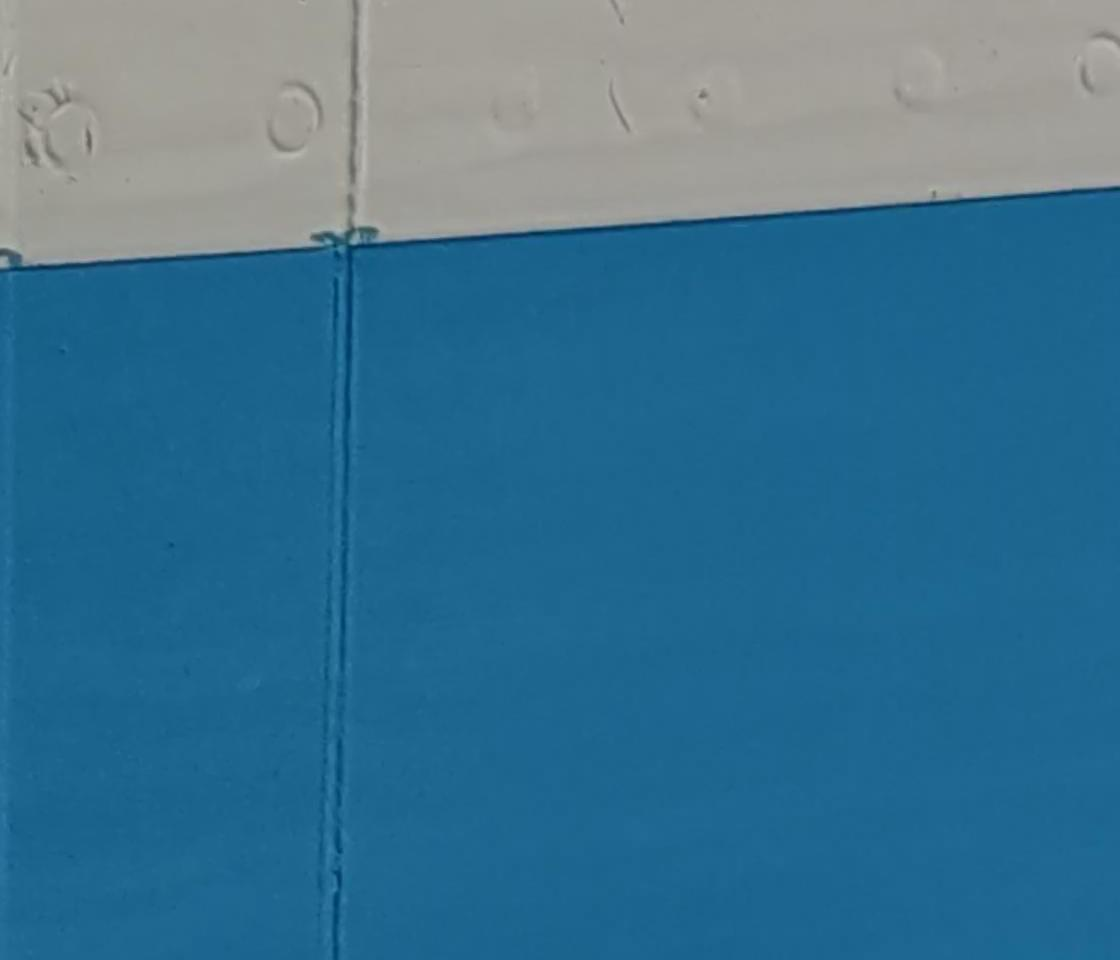scratch: (598, 76, 634, 134)
